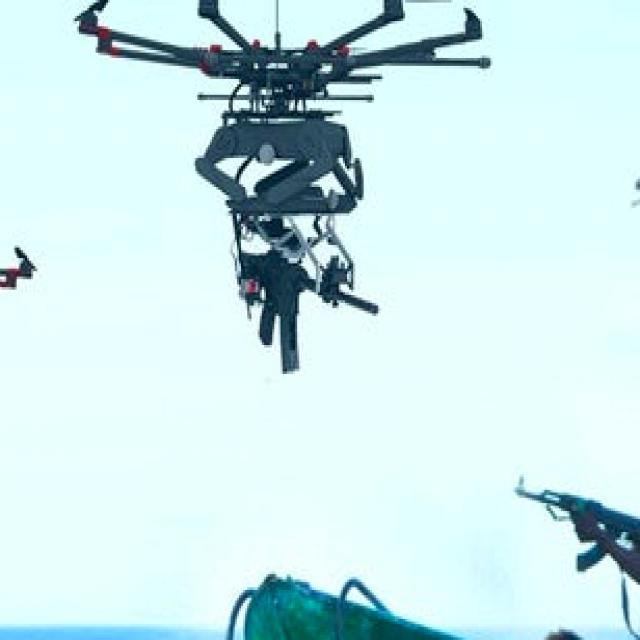drone: (62, 0, 512, 161)
